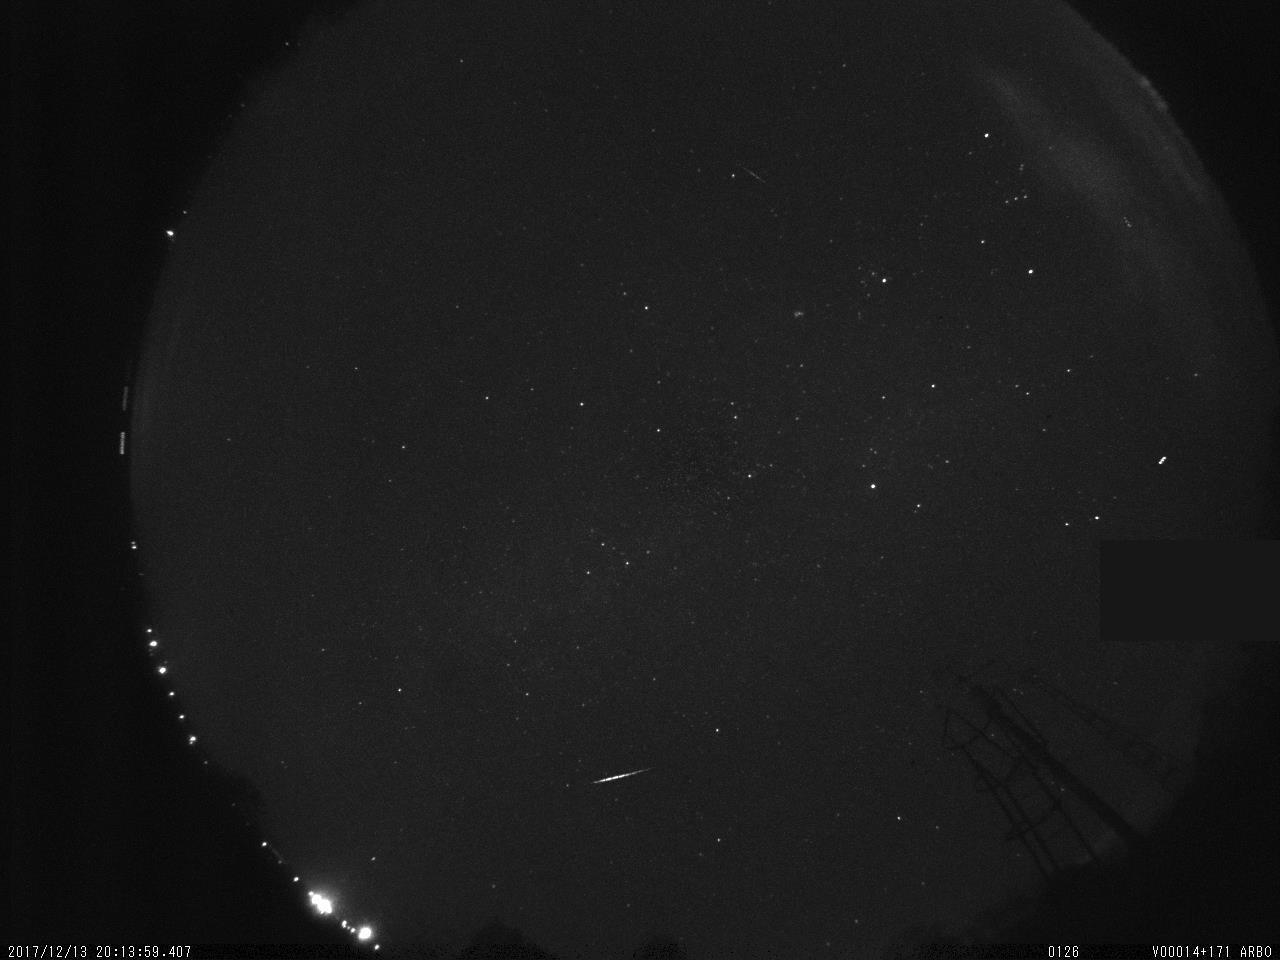meteor: (563, 765, 655, 799), (730, 153, 773, 196)
